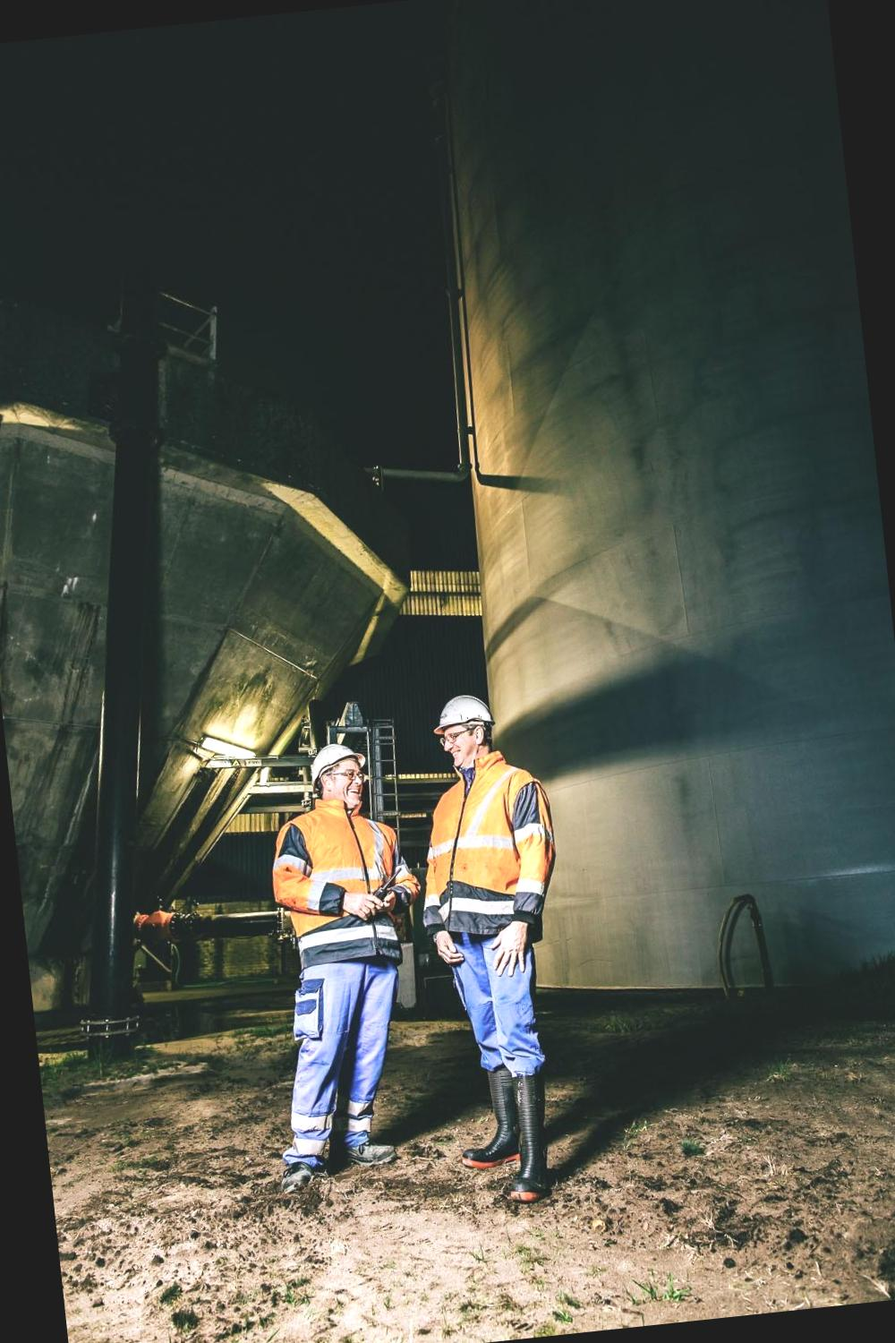person: (389, 680, 601, 1220), (245, 733, 435, 1210)
